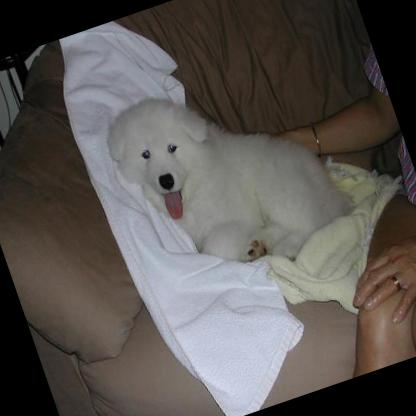Samoyed: (95, 46, 357, 306)
